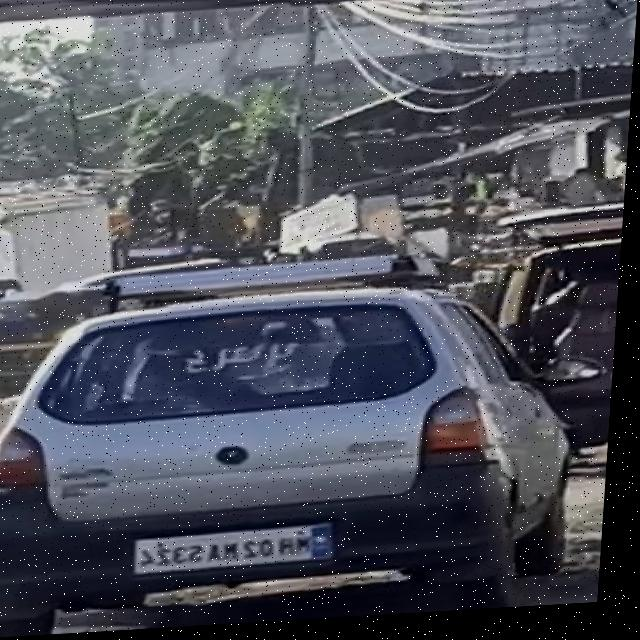plate: (132, 519, 345, 586)
